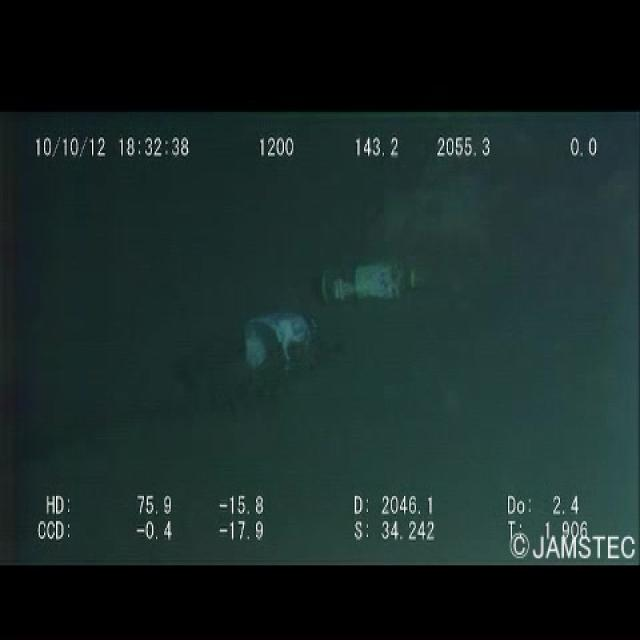plastic: (168, 288, 345, 402), (313, 252, 420, 329)
